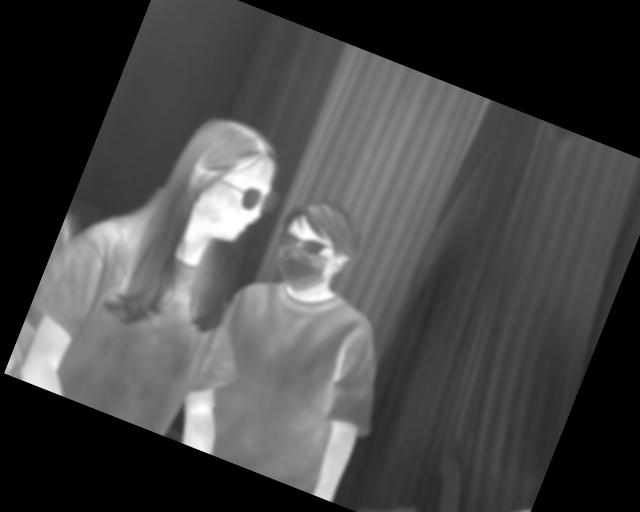face: (262, 188, 370, 307)
